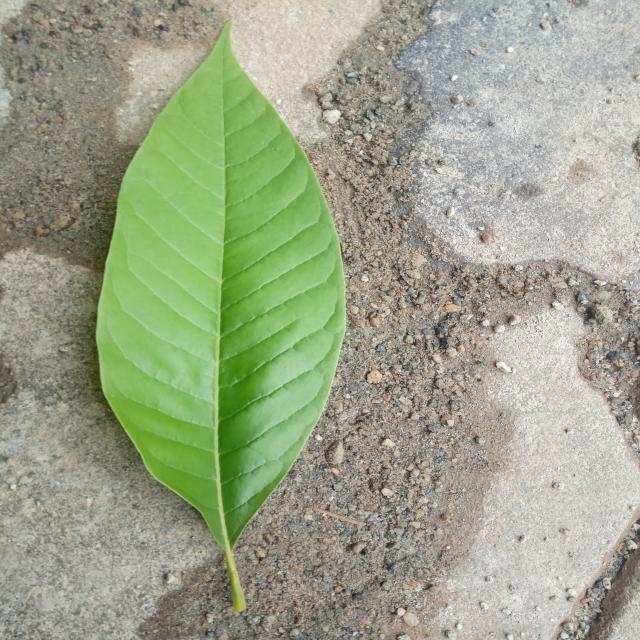coffee: (97, 24, 345, 611)
